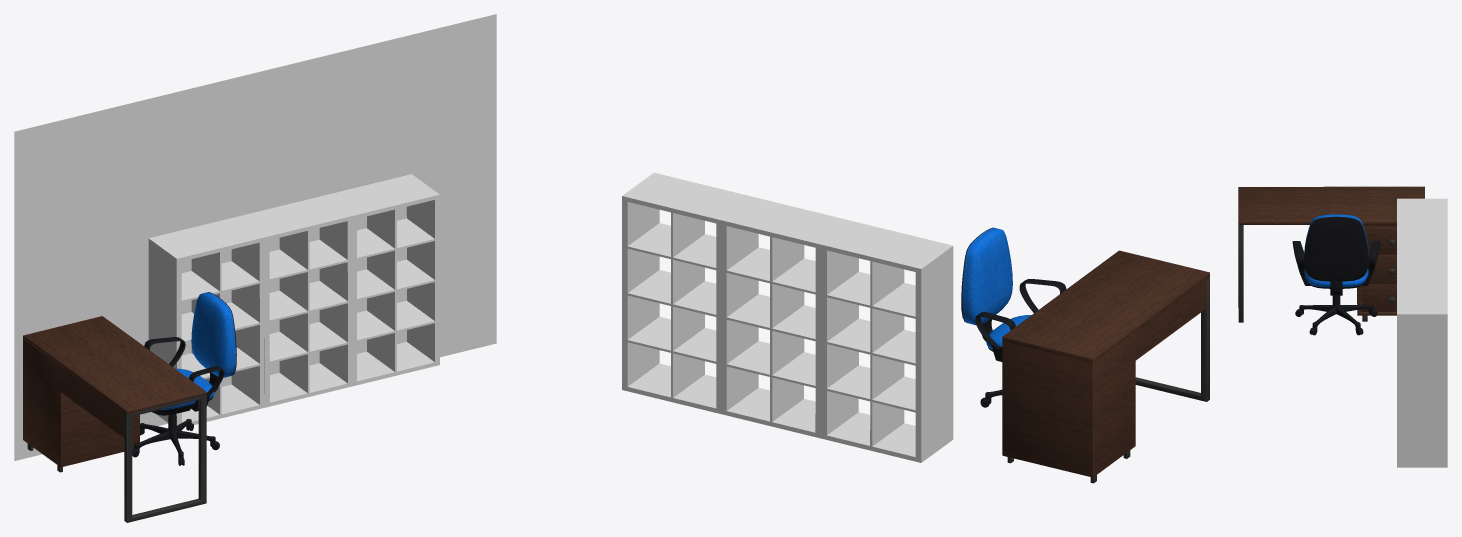
Rendered from Room.glb.
3 renders of one model, left to right at view 1: azimuth 30°, elevation 25°; view 2: azimuth 150°, elevation 25°; view 3: azimuth 270°, elevation 25°, orthographic. The views are drawn at different scales.
Visible parts, largest first — view 1: Plane.001, DeskSlot, Shelf2Slot, Shelf3Slot, Shelf1Slot, ChairSlot; view 2: DeskSlot, Shelf1Slot, Shelf2Slot, Shelf3Slot, ChairSlot; view 3: Shelf3Slot, DeskSlot, ChairSlot, Shelf1Slot, Shelf2Slot.
Boxes of the visible parts, bbox=[...] form: Plane.001: bbox=[14, 14, 496, 460]; DeskSlot: bbox=[23, 316, 206, 522]; Shelf2Slot: bbox=[237, 195, 352, 407]; Shelf3Slot: bbox=[325, 174, 439, 386]; Shelf1Slot: bbox=[148, 217, 264, 427]; ChairSlot: bbox=[132, 292, 236, 465]; DeskSlot: bbox=[1002, 250, 1209, 483]; Shelf1Slot: bbox=[821, 221, 953, 462]; Shelf2Slot: bbox=[721, 197, 852, 438]; Shelf3Slot: bbox=[622, 172, 752, 413]; ChairSlot: bbox=[961, 227, 1066, 407]; Shelf3Slot: bbox=[1397, 276, 1447, 467]; DeskSlot: bbox=[1238, 186, 1424, 322]; ChairSlot: bbox=[1292, 214, 1380, 335]; Shelf1Slot: bbox=[1397, 198, 1447, 237]; Shelf2Slot: bbox=[1397, 237, 1447, 275].
Size of the model in its own units: 3.9 by 2.52 by 1.61.
Materials: 4 (2 with a texture image).
